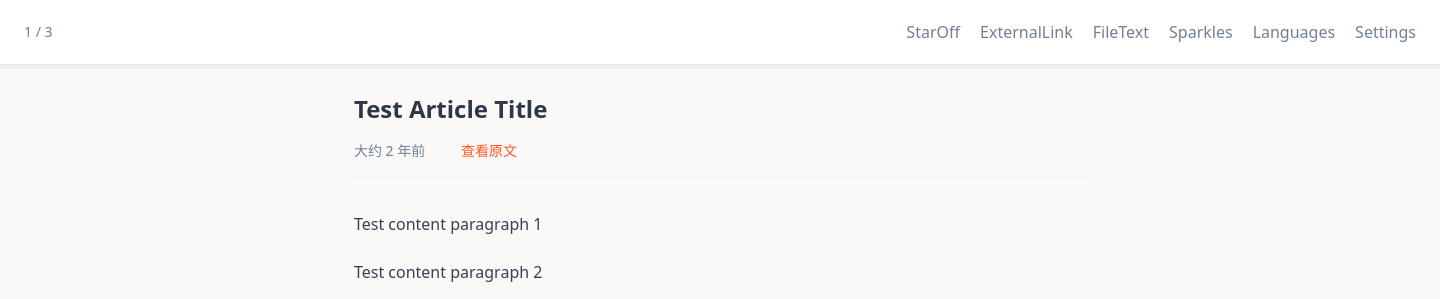
Test: ArticleViewer › 应该在抓取全文后自动切换到全文显示
Click the button titled "抓取全文": x=1121, y=32 [1085,12,1157,52]
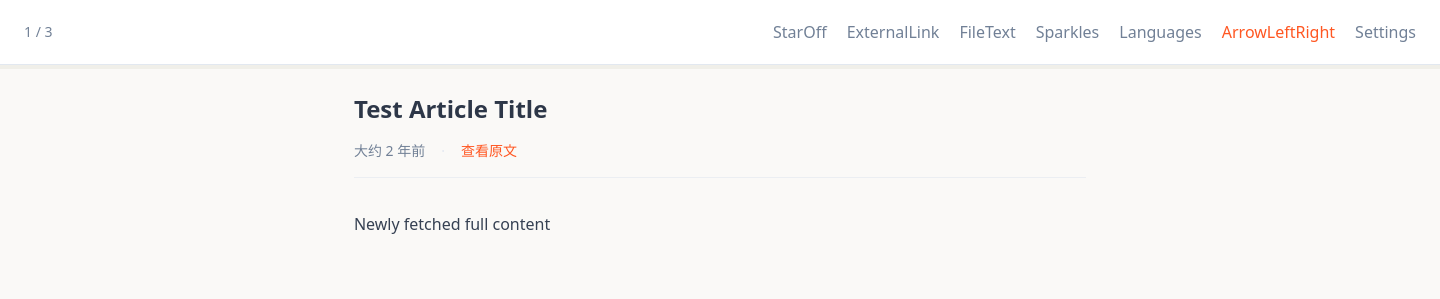
Check: the text "Newly fetched full content" is shown, box [354,213,550,235]
